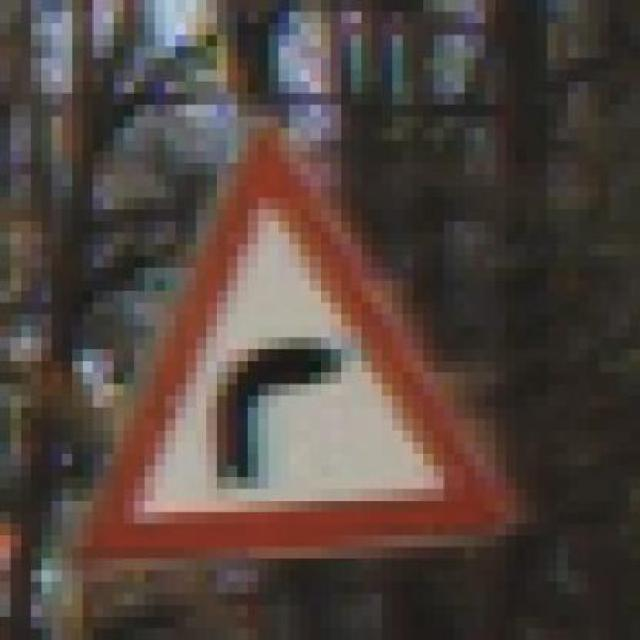Dangerous Rright Curve Ahead: (62, 116, 526, 570)
